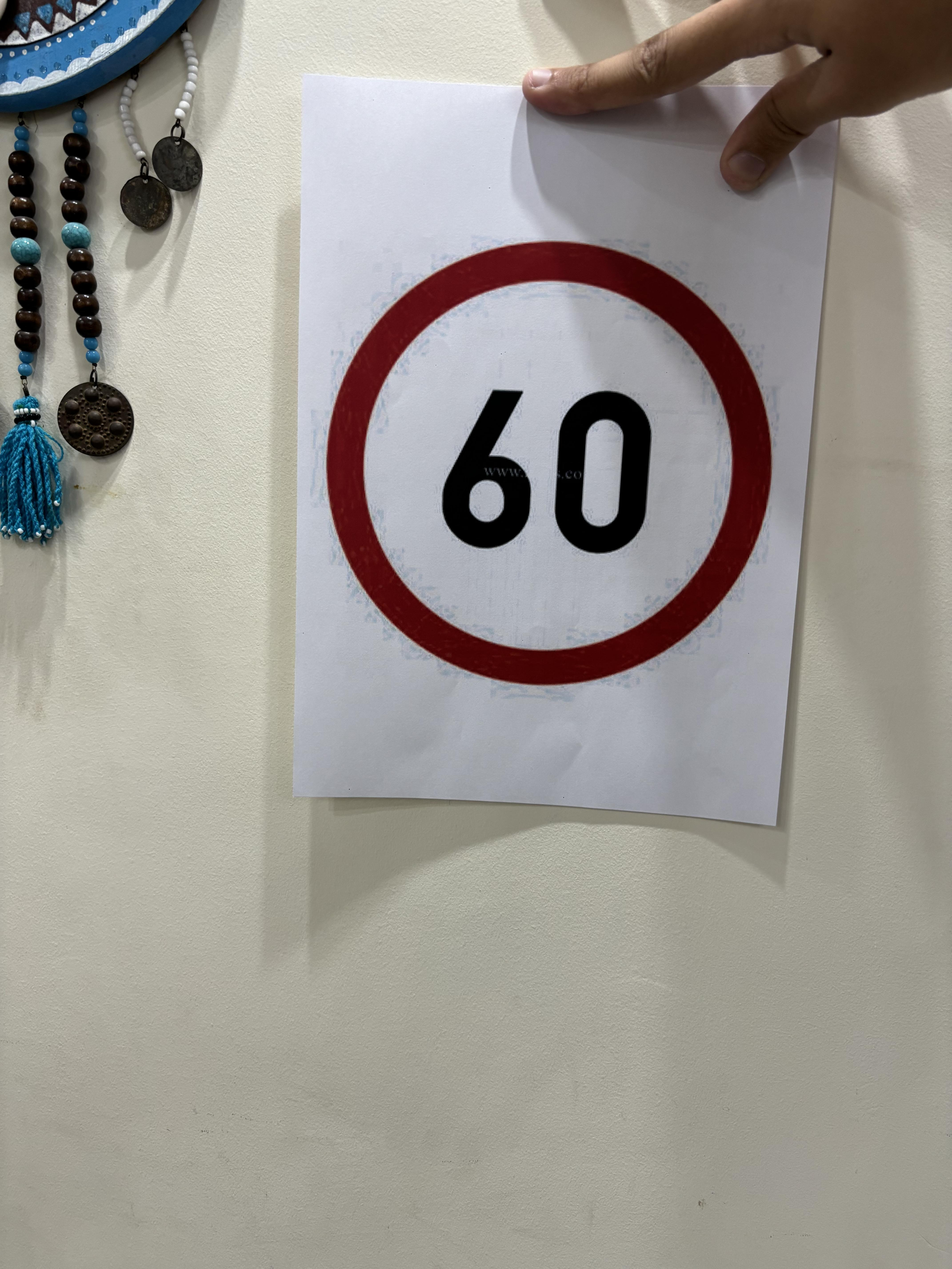60-Speed: (323, 225, 788, 691)
